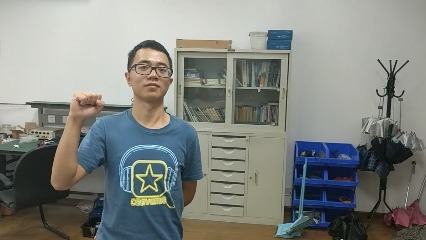fist: (69, 90, 106, 121)
